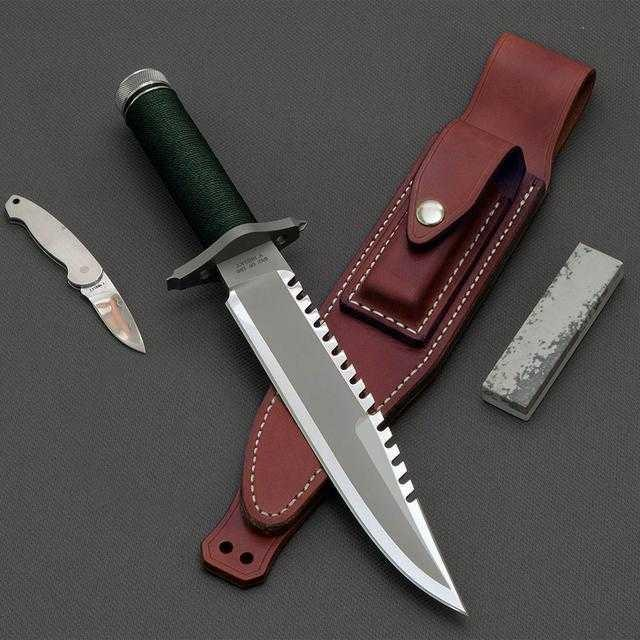Knife: (119, 57, 481, 628)
